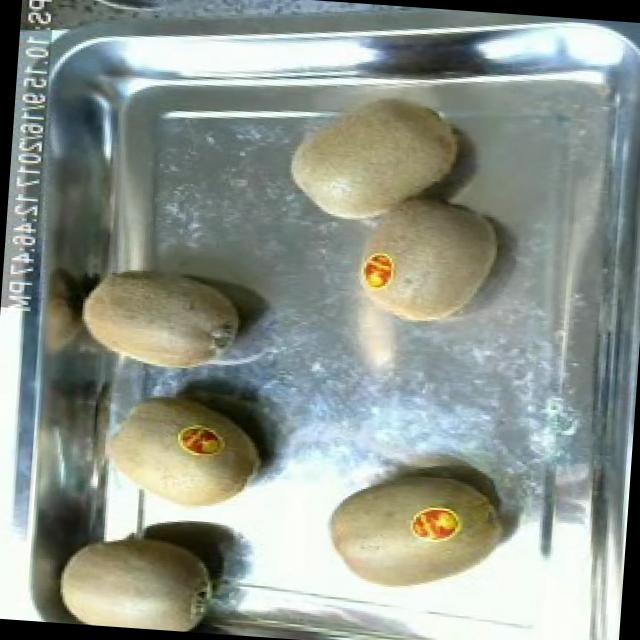Fruit: (274, 73, 476, 236), (316, 456, 516, 606), (346, 176, 508, 336), (95, 382, 272, 528), (68, 255, 254, 381), (43, 516, 231, 634)
